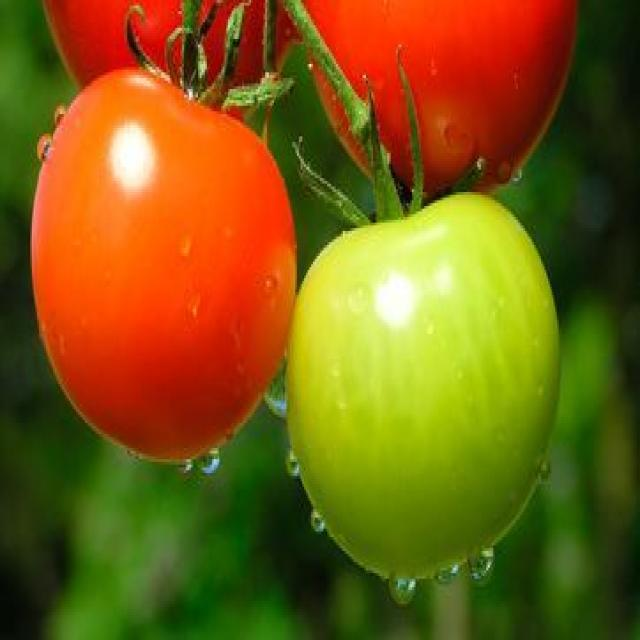level 2: (286, 192, 565, 586)
level 6: (33, 68, 299, 466), (292, 0, 578, 196), (40, 0, 313, 125)
